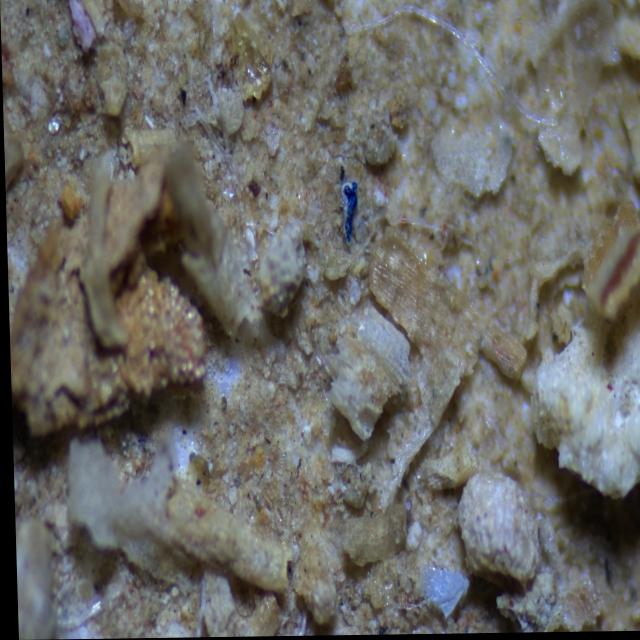microplastic: (341, 180, 357, 248)
